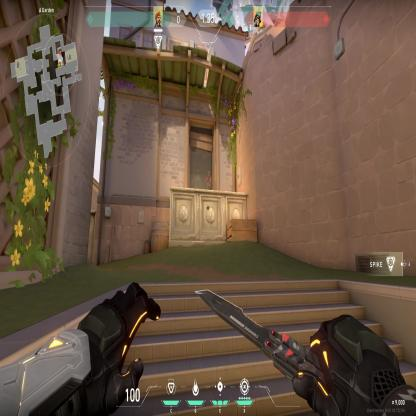enemy: (205, 169, 212, 189)
